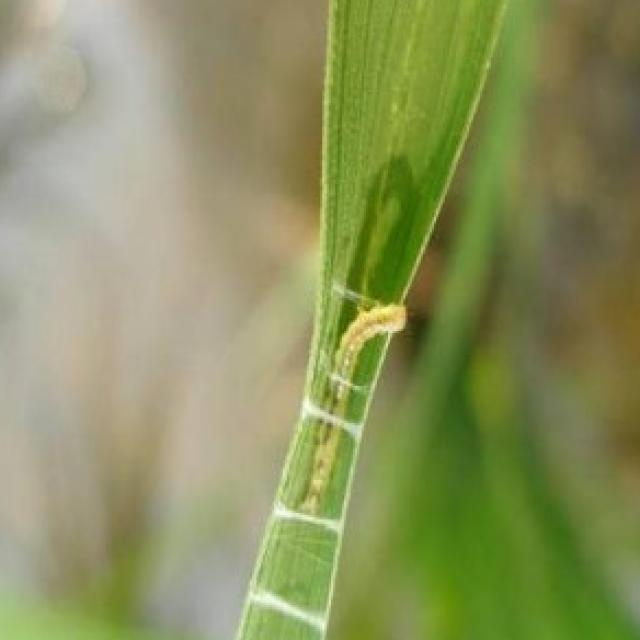rice leaf roller: (298, 305, 403, 515)
